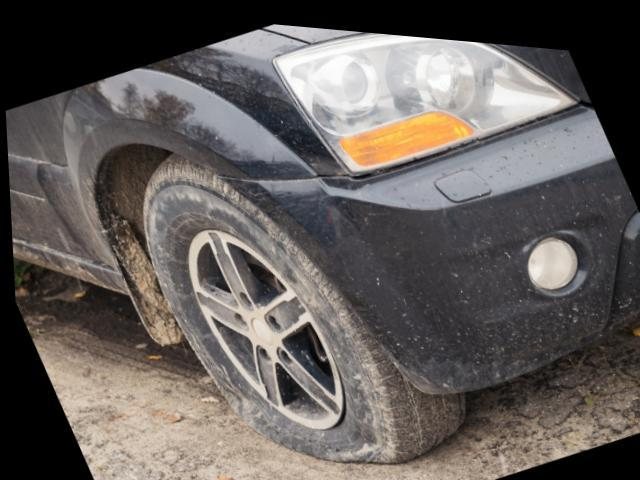tire flat: (139, 151, 467, 459)
